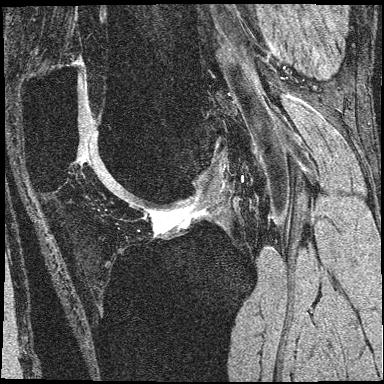SagKneeJointArea: (20, 65, 259, 319)
